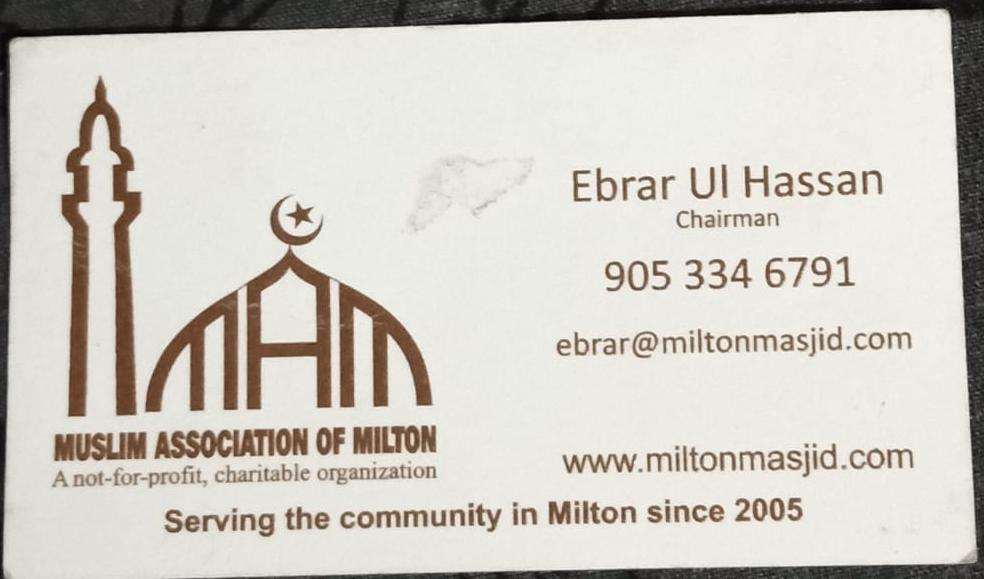alphabetical: (560, 154, 893, 204)
numerical: (598, 249, 858, 296)
